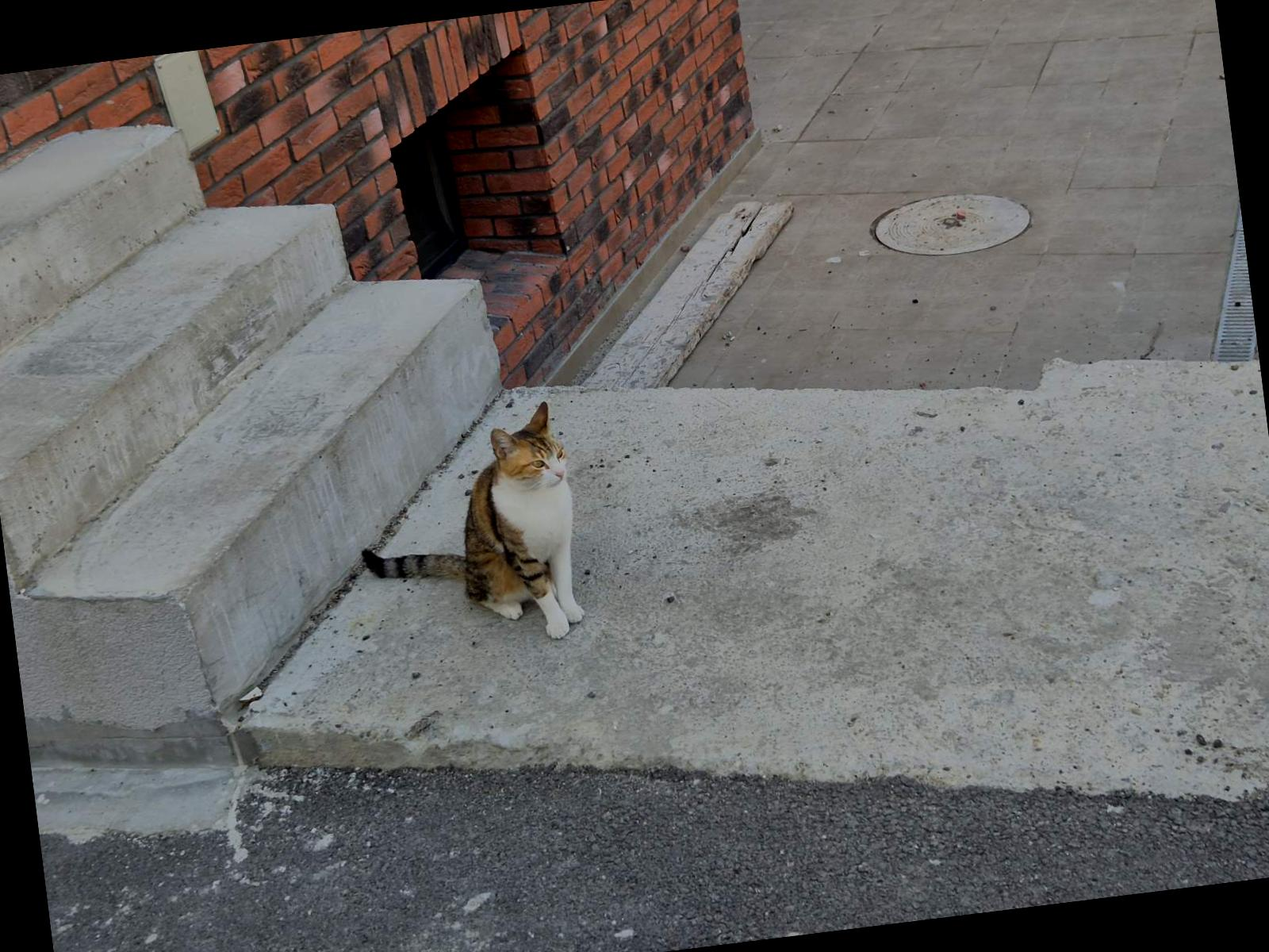macka: (345, 400, 590, 663)
